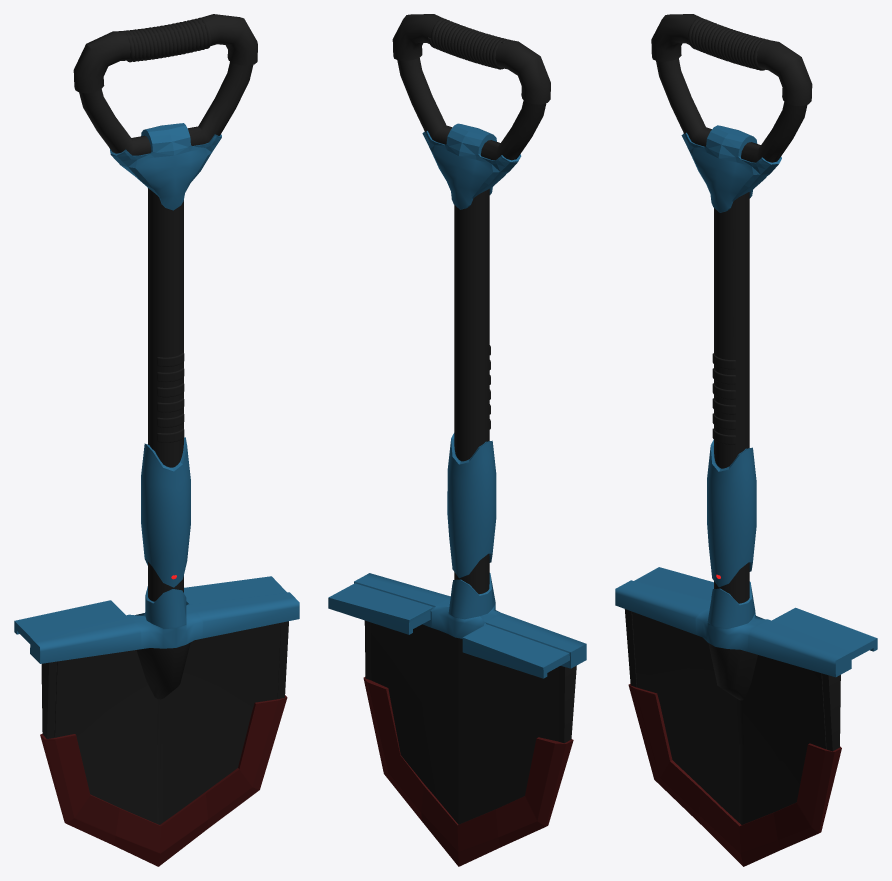
Rendered from shovel.FBX.
3 views of the same model, side by side, from view 1: azimuth 30°, elevation 25°; view 2: azimuth 150°, elevation 25°; view 3: azimuth 330°, elevation 25° (orthographic). The views are drawn at different scales.
Parts seen in each view (by area): view 1: Box001, Box003, Object001, Cylinder001, Rectangle001, Cylinder002, Box002, Helix001, Cylinder003; view 2: Box001, Box003, Object001, Cylinder001, Rectangle001, Cylinder002, Box002, Helix001; view 3: Box001, Box003, Object001, Cylinder001, Rectangle001, Cylinder002, Box002, Helix001, Cylinder003.
Part boxes in pixels (x1,y1,x2,y2): Box001: (41, 621, 288, 824); Box003: (14, 576, 299, 663); Object001: (40, 695, 287, 866); Cylinder001: (148, 188, 184, 601); Rectangle001: (73, 14, 257, 155); Cylinder002: (141, 437, 190, 587); Box002: (109, 123, 221, 210); Helix001: (123, 17, 211, 62); Cylinder003: (136, 642, 190, 699); Box001: (364, 620, 576, 824); Box003: (328, 573, 586, 678); Object001: (363, 677, 573, 866); Cylinder001: (454, 189, 490, 594); Rectangle001: (392, 14, 550, 160); Cylinder002: (447, 433, 496, 578); Box002: (422, 123, 521, 209); Helix001: (428, 18, 509, 69); Box001: (624, 609, 840, 824); Box003: (615, 567, 877, 677); Object001: (628, 683, 841, 866); Cylinder001: (712, 192, 749, 603); Rectangle001: (651, 14, 812, 162); Cylinder002: (707, 439, 756, 587); Box002: (681, 125, 781, 212); Helix001: (688, 17, 768, 70); Cylinder003: (708, 643, 757, 700).
Bounding box in the file's own units: 23.63 × 77.48 × 8.86.
